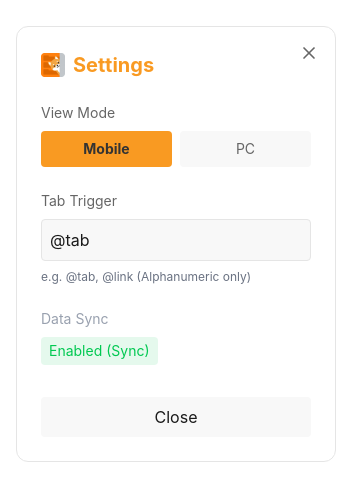
Test: SettingsOverlay › Close functionality › should disable Close button when there is a validation error
In the field: (176, 240) [41,219,311,261], type "invalid"
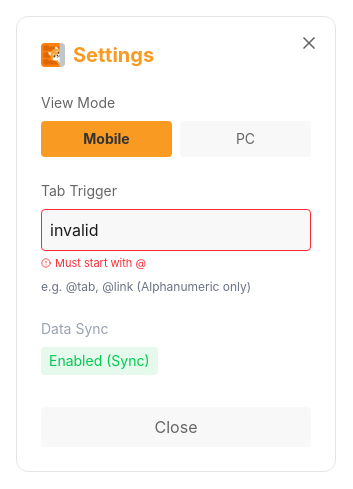
Expected: the button "Close" is disabled, [41,407,311,447]
